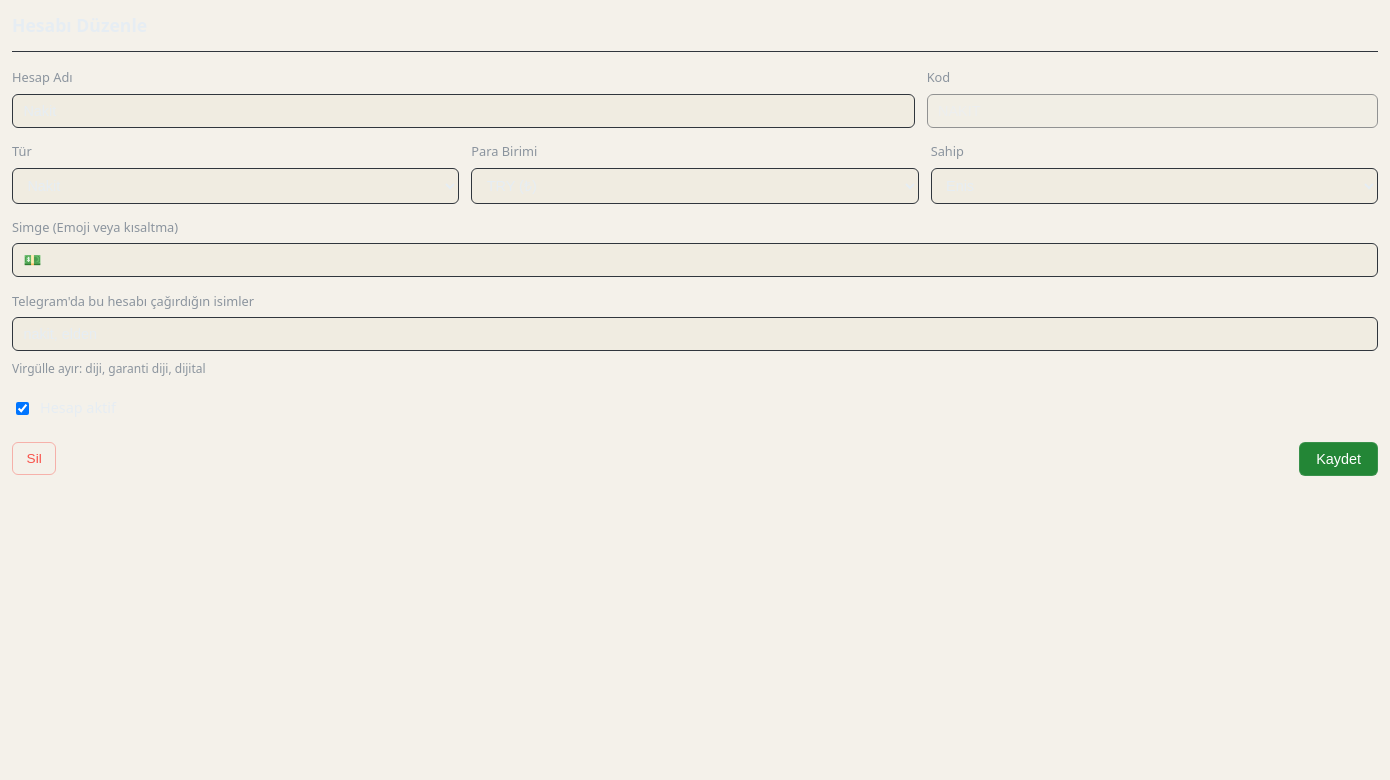
it: HesapFormu › hareketi olan hesabı silmez, pasifleştirmeyi önerir
Click the button "Sil" at (34, 459), box [12,442,56,475]
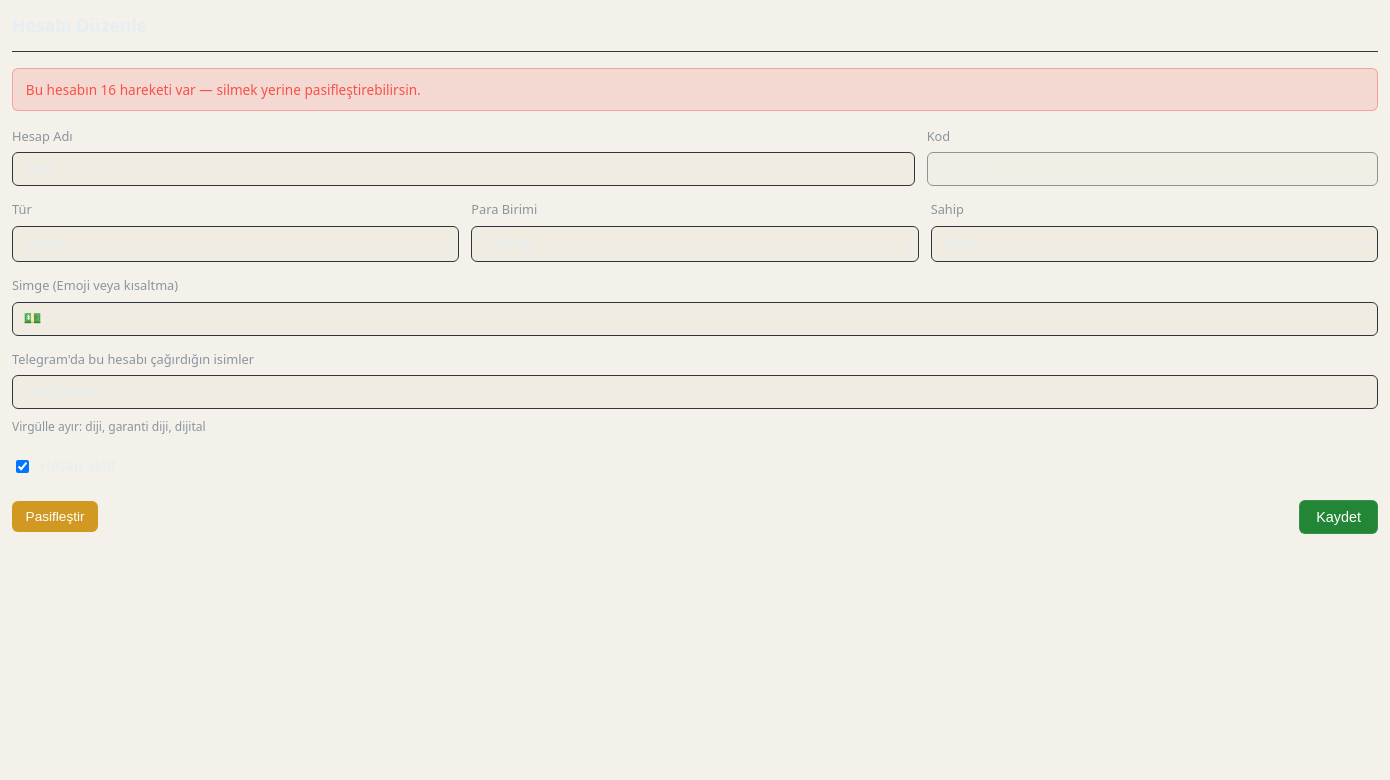
Result: the text "pasifleştir" is shown at [26,80,421,99]
